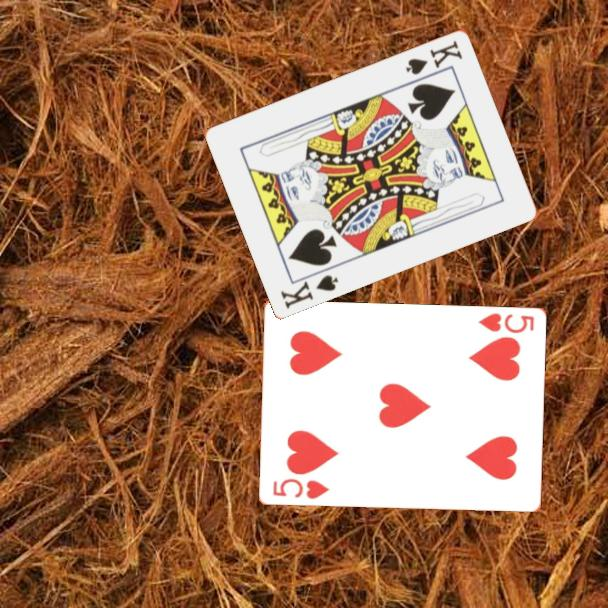h05: (269, 475, 332, 502), (475, 310, 537, 336)
s13: (277, 271, 342, 311), (402, 37, 466, 77)
